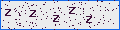z: (67, 6, 76, 15), (28, 10, 37, 18), (4, 9, 12, 17), (86, 16, 93, 24), (53, 15, 59, 23)
